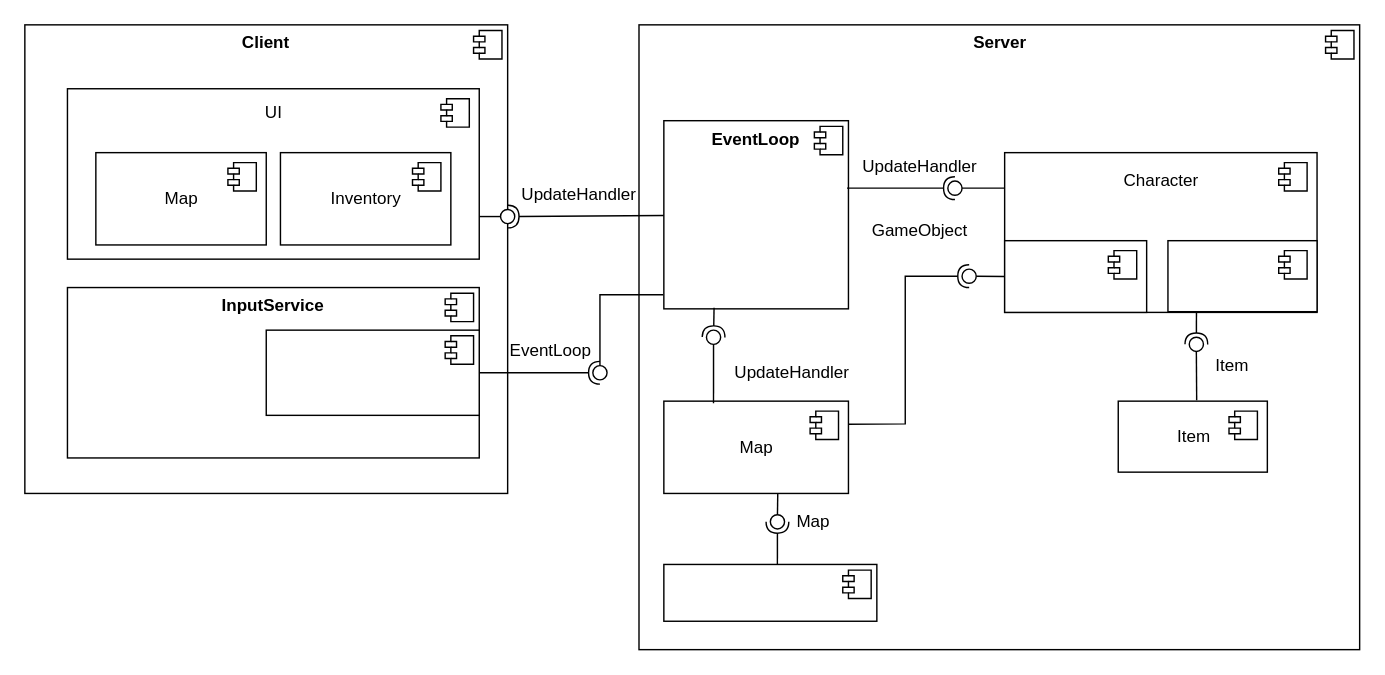
The diagram is 1385 pixels wide and 675 high, and some of its shapes have lost their labels. Each missing label, with the centre of its shape:
"Characteristics" belongs at point 1075,275.
"Command" belongs at point 372,372.
"Inverntory" belongs at point 1242,275.
"LevelGenerator" belongs at point 769,592.
